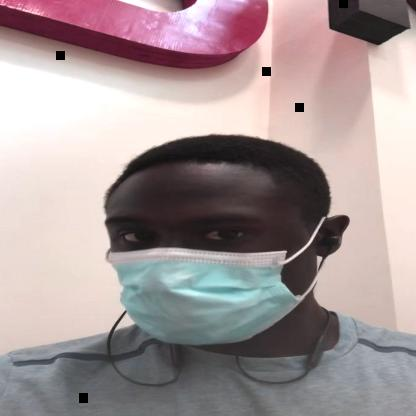mask: (102, 178, 325, 344)
